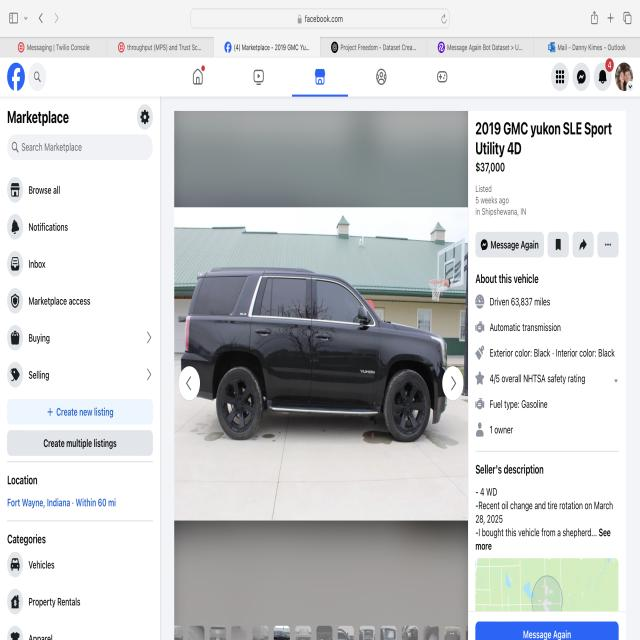message_button: (476, 621, 618, 640)
